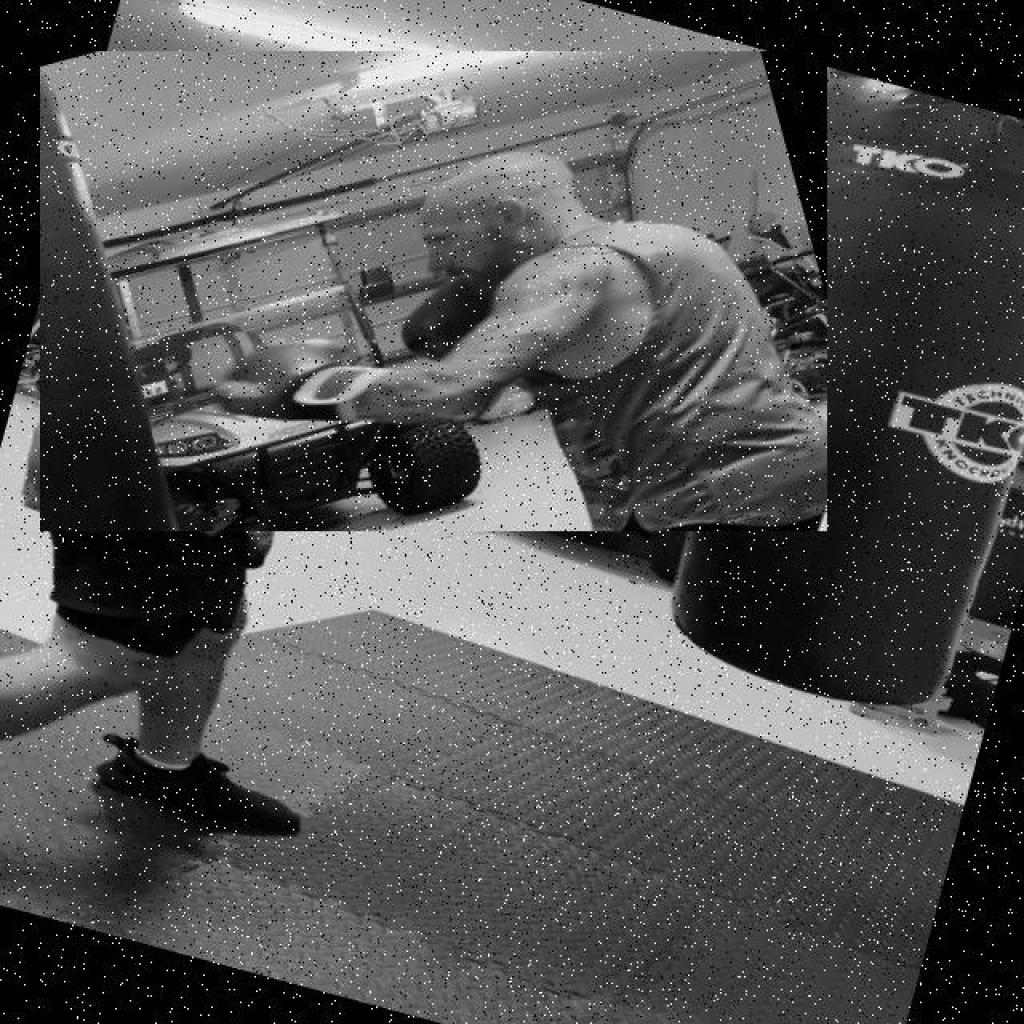bag: (651, 62, 1024, 748)
cross: (40, 51, 827, 532)
